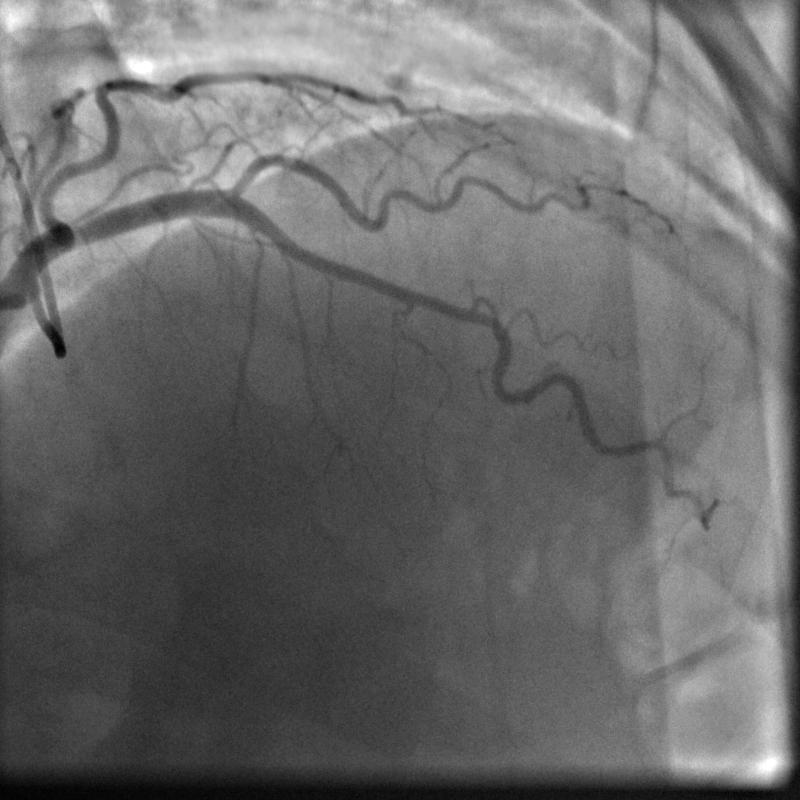Stenosis: (433, 297, 506, 337)
